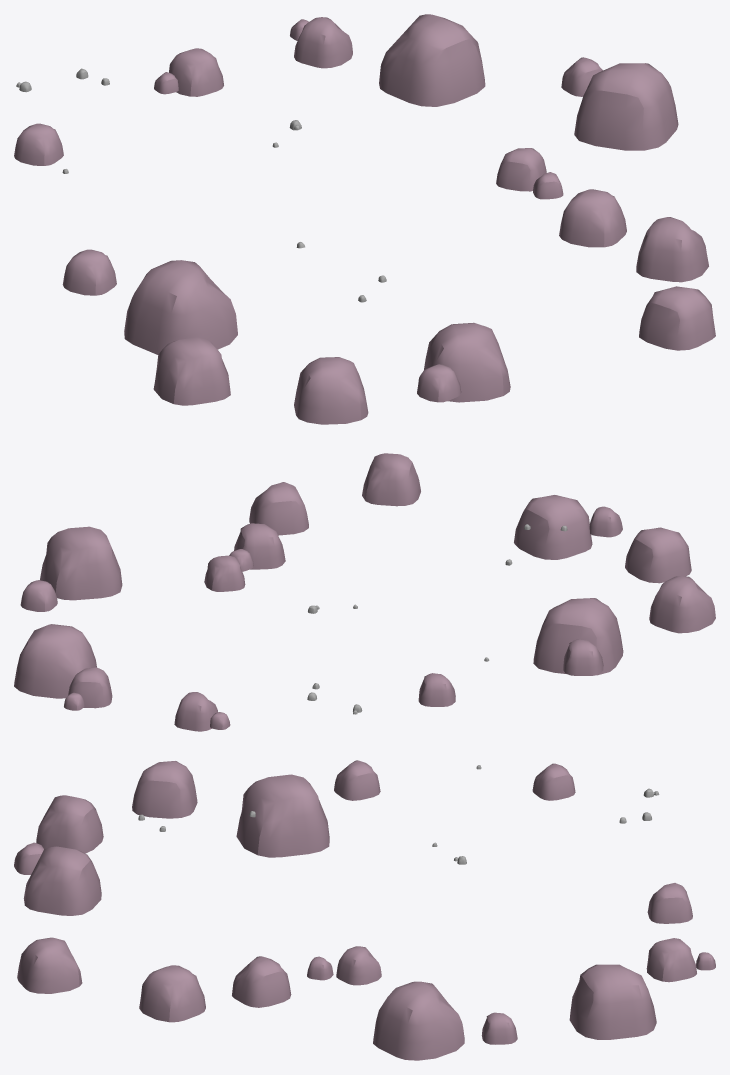
File: Rocks_UNWRAPPED.fbx
3 renders of one model, top to bottom at view 1: azimuth 30°, elevation 25°; view 2: azimuth 150°, elevation 25°; view 3: azimuth 270°, elevation 25°, orthographic. The views are drawn at different scales.
Visible parts, largest first — view 1: Rocks_Big; view 2: Rocks_Big; view 3: Rocks_Big, Rocks_Small.
Boxes of the visible parts, left/top/right/bottom form: Rocks_Big: left=14, top=14, right=715, bottom=424; Rocks_Big: left=14, top=453, right=715, bottom=731; Rocks_Big: left=14, top=760, right=715, bottom=1060; Rocks_Small: left=138, top=765, right=659, bottom=864.
Size of the model in its own units: 90.65 by 11.68 by 96.63.
